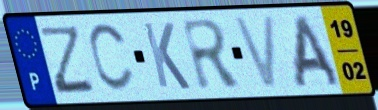A: (293, 13, 344, 90)
C: (86, 21, 137, 95)
K: (140, 20, 193, 92)
R: (178, 16, 245, 93)
V: (230, 13, 280, 93)
Z: (39, 23, 96, 96)
